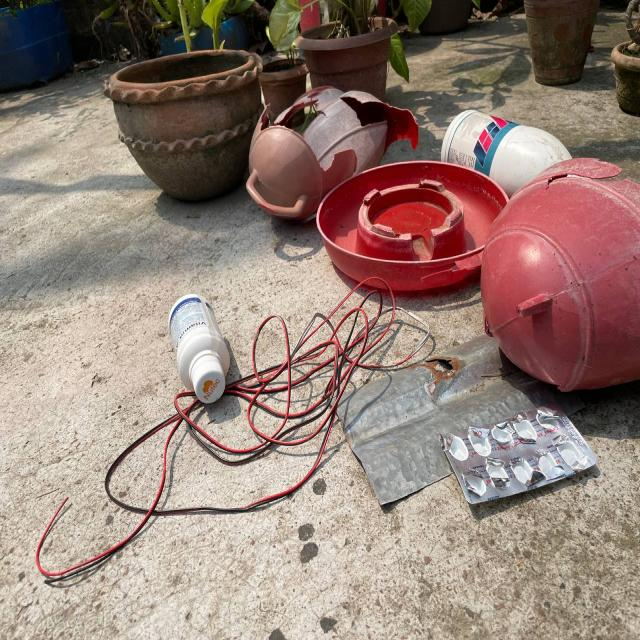Cable: (236, 68, 569, 278), (36, 397, 245, 596), (236, 284, 399, 522)
Medical Waste: (442, 401, 604, 521)
Plastics: (517, 146, 640, 376), (156, 280, 233, 402)
